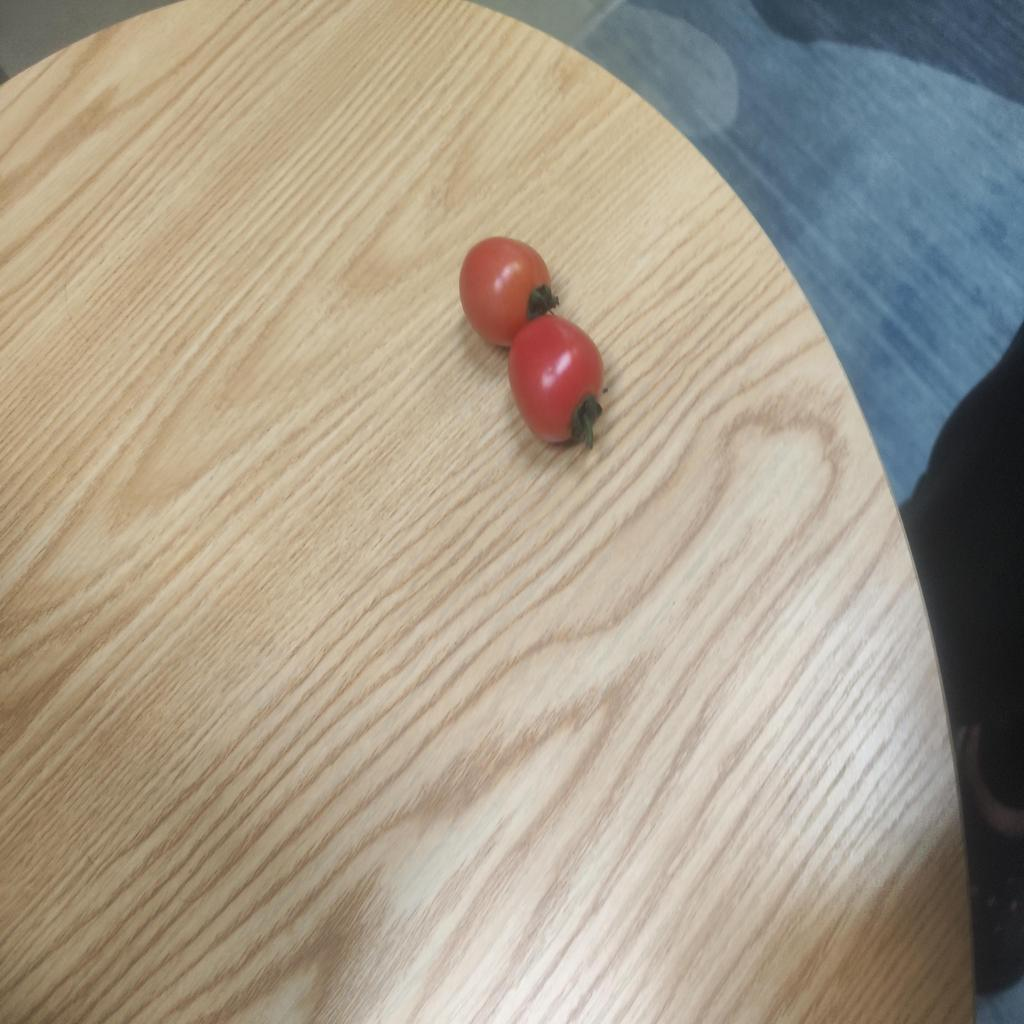tomato: (498, 307, 612, 454), (457, 236, 568, 345)
